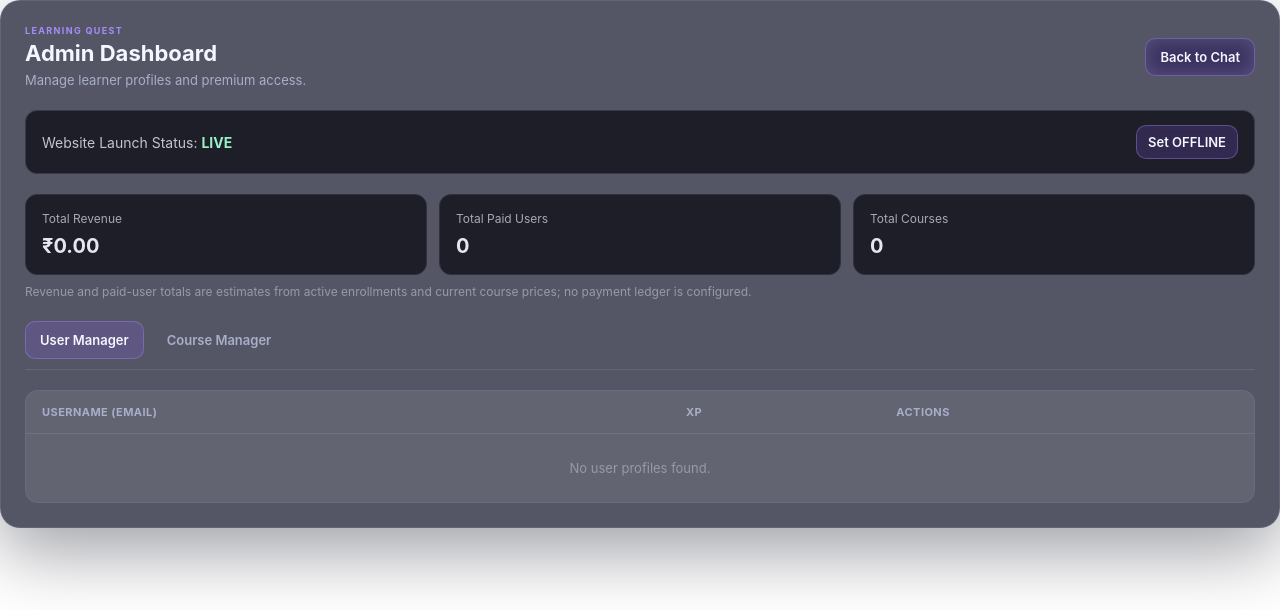
Test case: shows and toggles the website launch status
Expected: the text "Website Launch Status: LIVE" is shown, x1=42 y1=134 x2=232 y2=150
Click the button "Set OFFLINE" at (1187, 142), box x1=1136 y1=125 x2=1238 y2=159
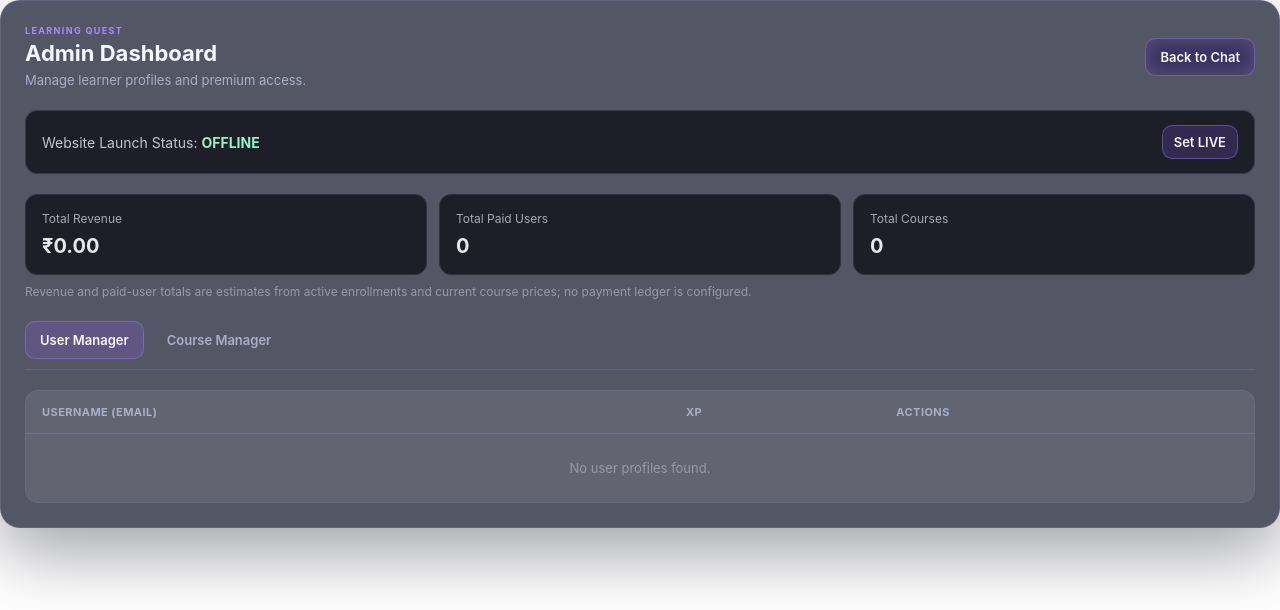
Expected: the text "Website Launch Status: OFFLINE" is shown, x1=42 y1=134 x2=260 y2=150
